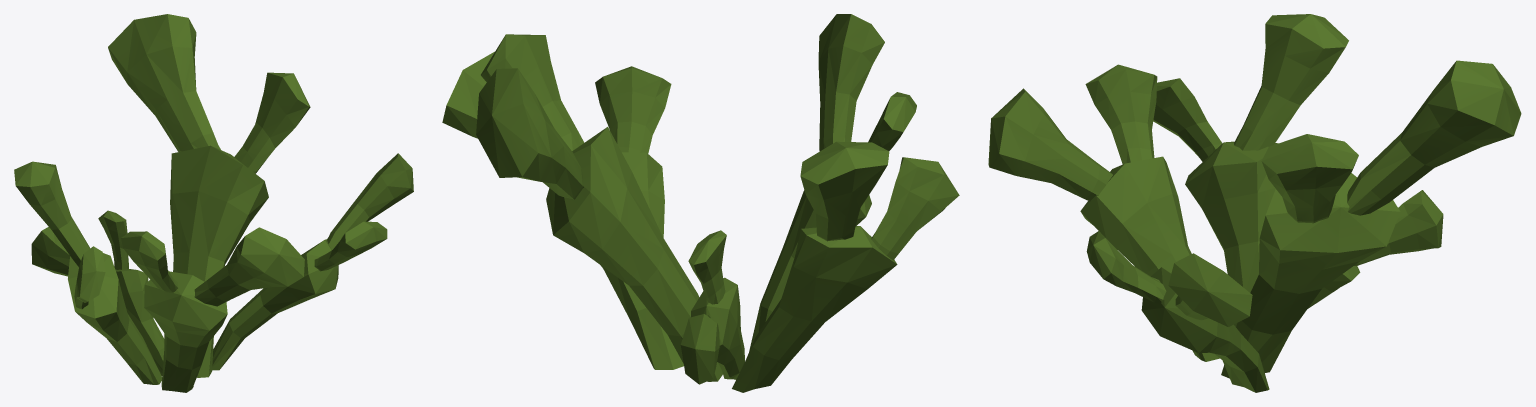
File: Desert_plant_007.glb
The picture shows the model from 3 angles, left to right: view 1: azimuth 30°, elevation 25°; view 2: azimuth 150°, elevation 25°; view 3: azimuth 270°, elevation 25°; orthographic projection. The views are drawn at different scales.
Visible parts, largest first — view 1: Desert_plant_007; view 2: Desert_plant_007; view 3: Desert_plant_007.
Part boxes in pixels (<box>): Desert_plant_007: <box>14,14,413,392</box>; Desert_plant_007: <box>442,14,959,392</box>; Desert_plant_007: <box>988,14,1521,392</box>.
Bounding box in the file's own units: 1.48 × 1.09 × 1.52.
1 material, 1 textured.
